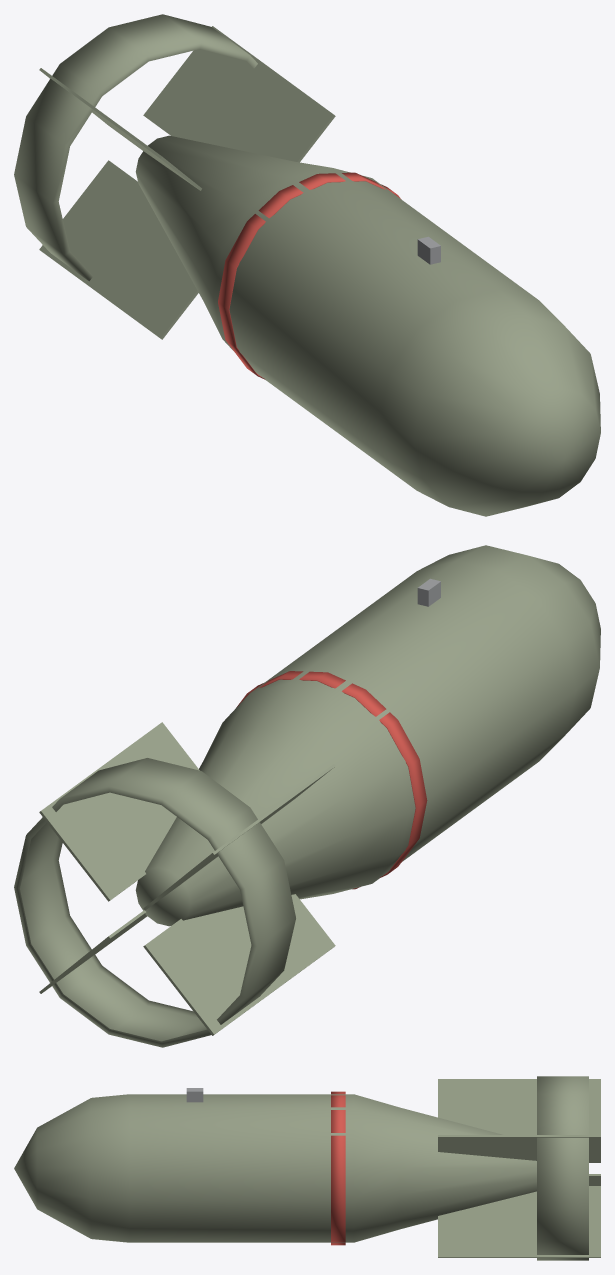
File: fab1000.glb
3 views of the same model, one above another, from view 1: azimuth 30°, elevation 25°; view 2: azimuth 150°, elevation 25°; view 3: azimuth 270°, elevation 25° (orthographic). The views are drawn at different scales.
Visible parts, largest first — view 1: fab1000_body; view 2: fab1000_body; view 3: fab1000_body.
Boxes of the visible parts, x1,y1,x2,y2 form: fab1000_body: [14, 14, 600, 516]; fab1000_body: [14, 545, 600, 1047]; fab1000_body: [14, 1076, 600, 1260].
Bounding box in the file's own units: 0.7812 × 0.7616 × 2.43.
